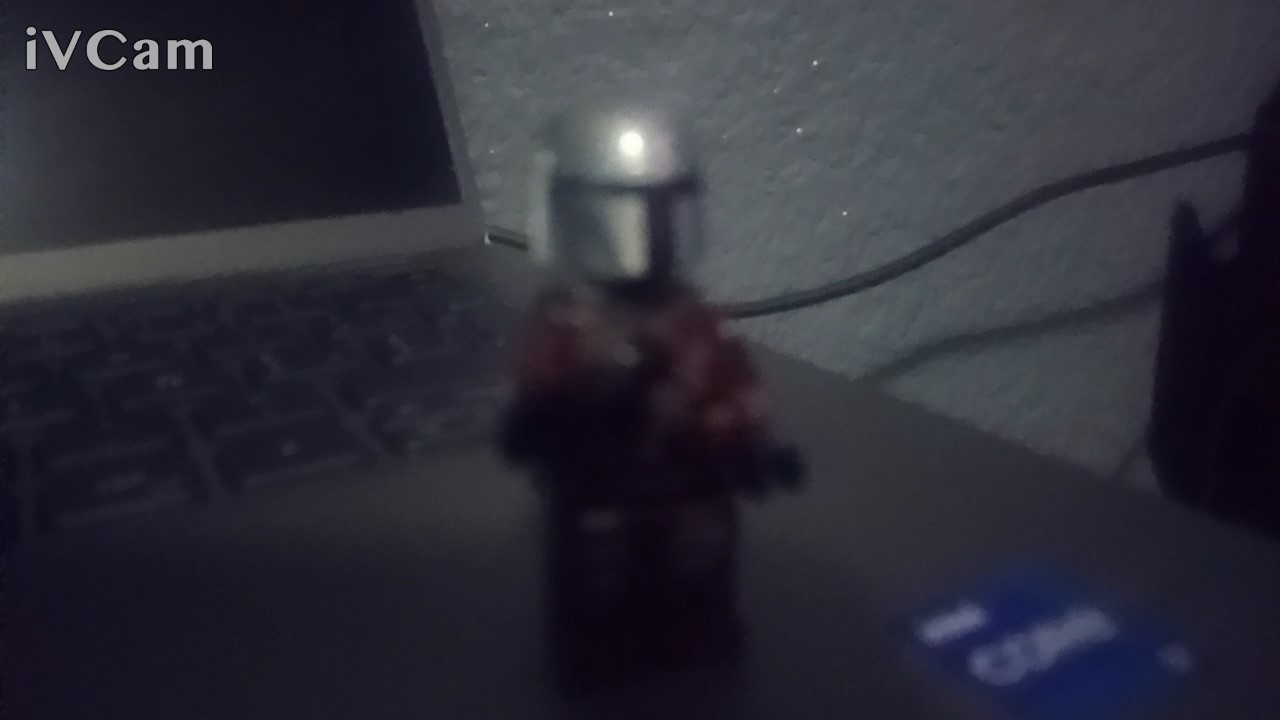mandalorian: (483, 79, 817, 708)
